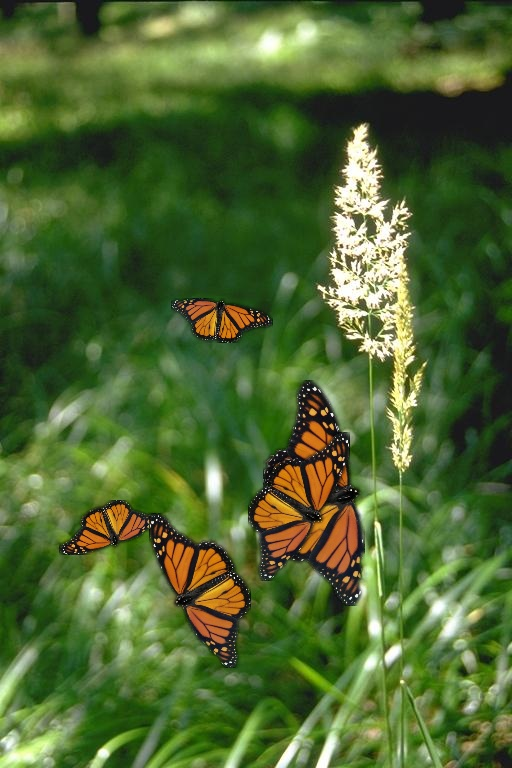danaus_plexippus: (263, 380, 365, 606), (149, 513, 251, 668), (248, 432, 350, 581), (59, 500, 161, 555), (171, 298, 273, 343)
